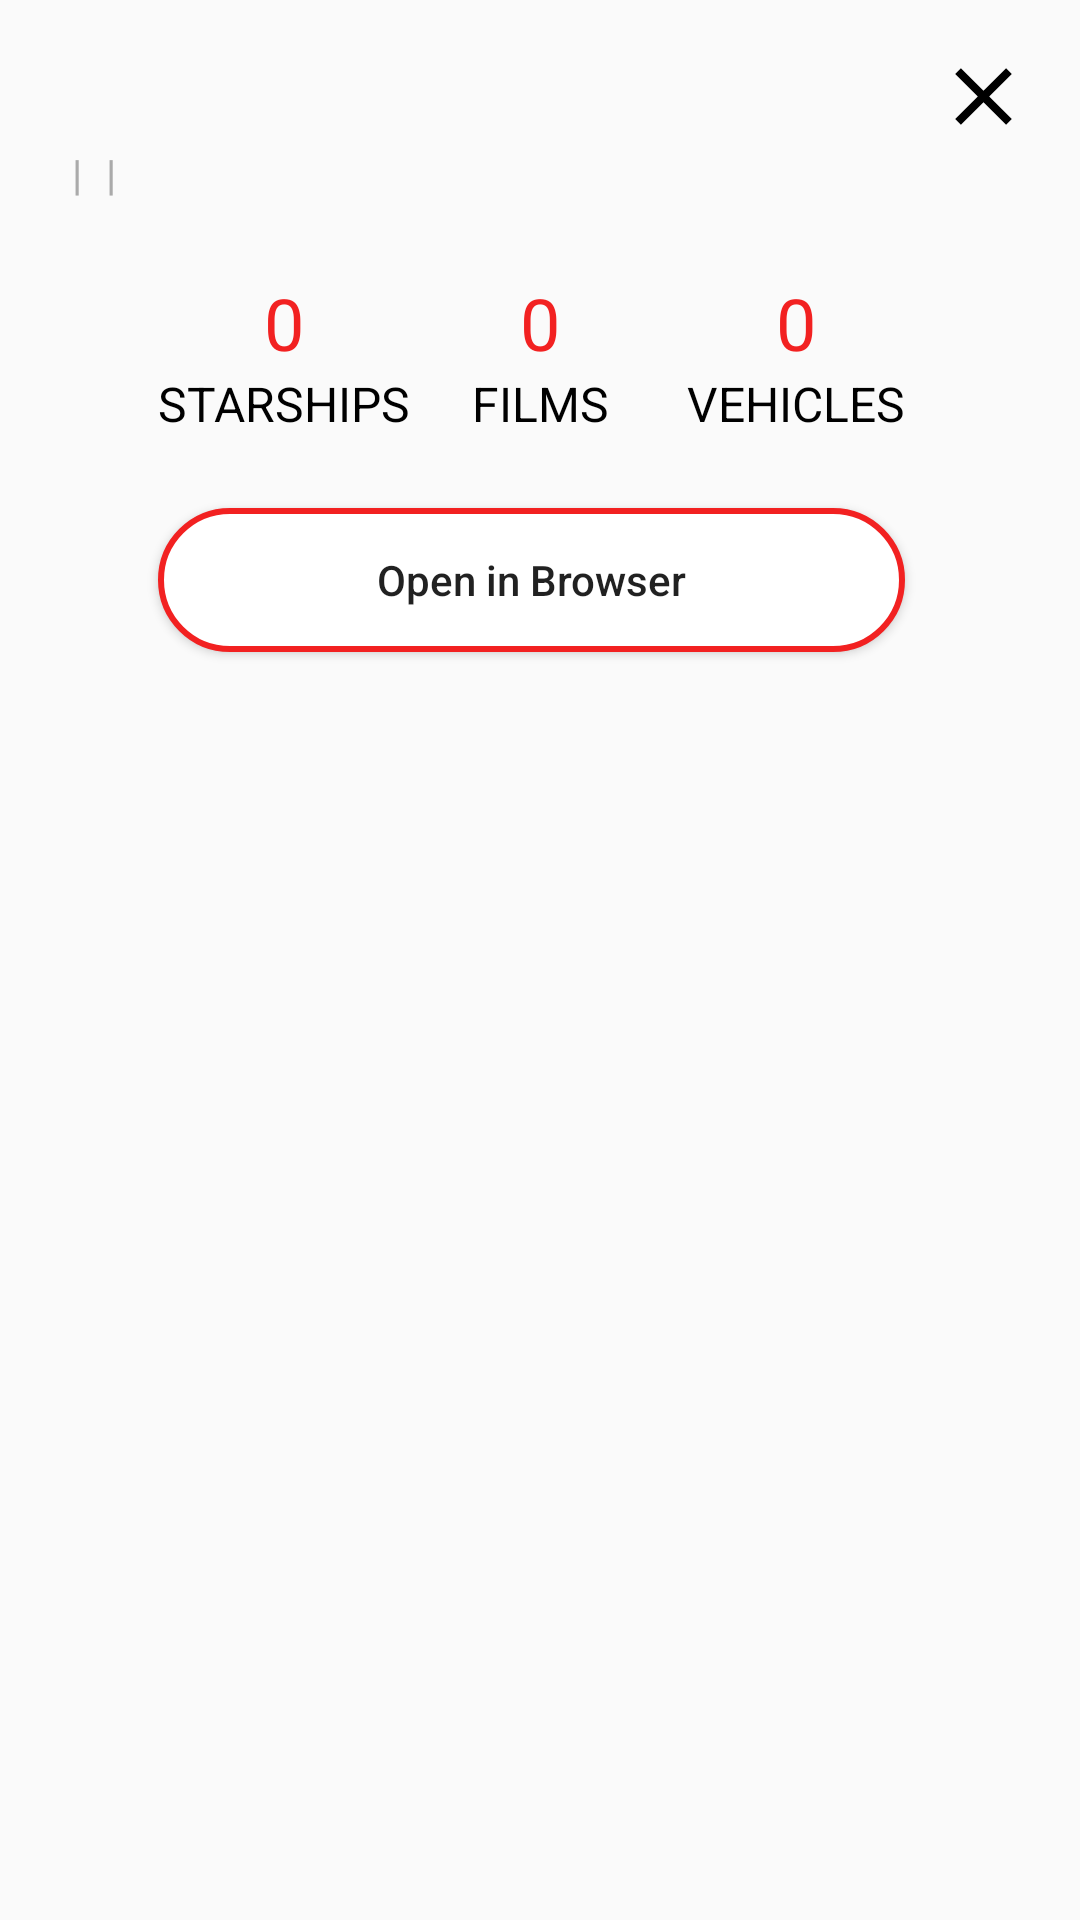

Icon click points for this 1080 × 1920 phone screenshot, format (x,y):
close: (983,96)
